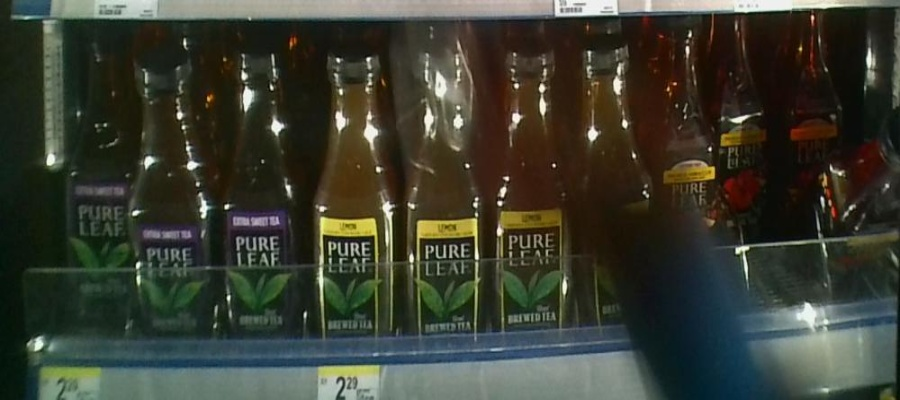bottle: (487, 47, 576, 348), (400, 44, 485, 352), (308, 56, 395, 348), (220, 48, 304, 350), (134, 52, 217, 343), (576, 36, 654, 343), (63, 36, 132, 345), (658, 19, 720, 270), (719, 11, 769, 235), (842, 104, 899, 231)
